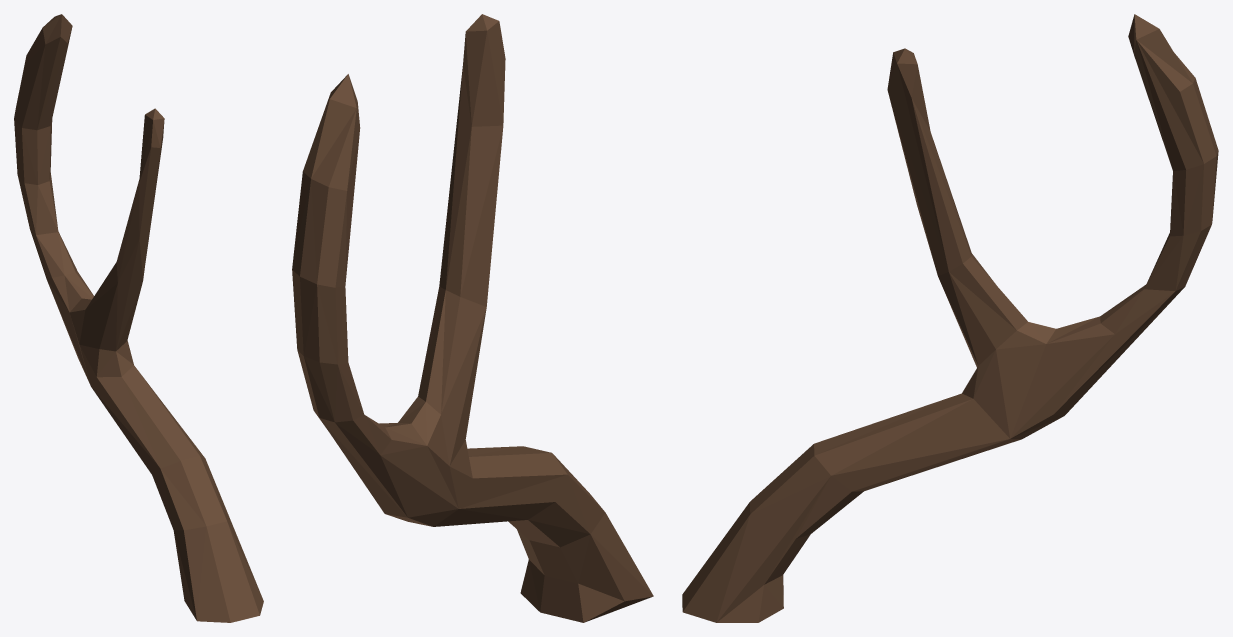
The model's file is Willow_Dead_3.glb.
3 renders of one model, left to right at view 1: azimuth 30°, elevation 25°; view 2: azimuth 150°, elevation 25°; view 3: azimuth 270°, elevation 25°, orthographic. The views are drawn at different scales.
Parts seen in each view (by area): view 1: Willow_Dead_3; view 2: Willow_Dead_3; view 3: Willow_Dead_3.
Part boxes in pixels (box(x1,y1,x2,y2)): Willow_Dead_3: box(14, 14, 263, 622); Willow_Dead_3: box(292, 14, 653, 622); Willow_Dead_3: box(682, 14, 1218, 622).
Size of the model in its own units: 0.2968 by 1.9 by 1.57.
